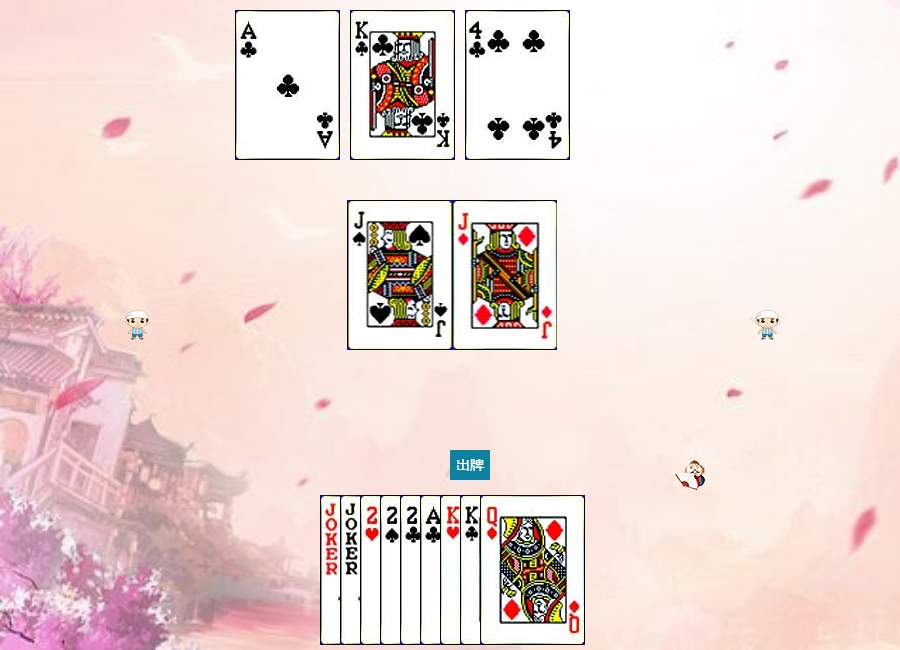11~1: (453, 200, 558, 350)
11~4: (348, 200, 453, 350)
12~1: (480, 495, 585, 645)
13~2: (350, 10, 455, 160), (460, 495, 565, 645)
13~3: (440, 495, 545, 645)
14~2: (235, 10, 340, 160), (420, 495, 525, 645)
15~2: (400, 495, 505, 645)
15~3: (360, 495, 465, 645)
15~4: (380, 495, 485, 645)
17~3: (340, 495, 445, 645)
18~4: (320, 495, 425, 645)
4~2: (465, 10, 570, 160)
